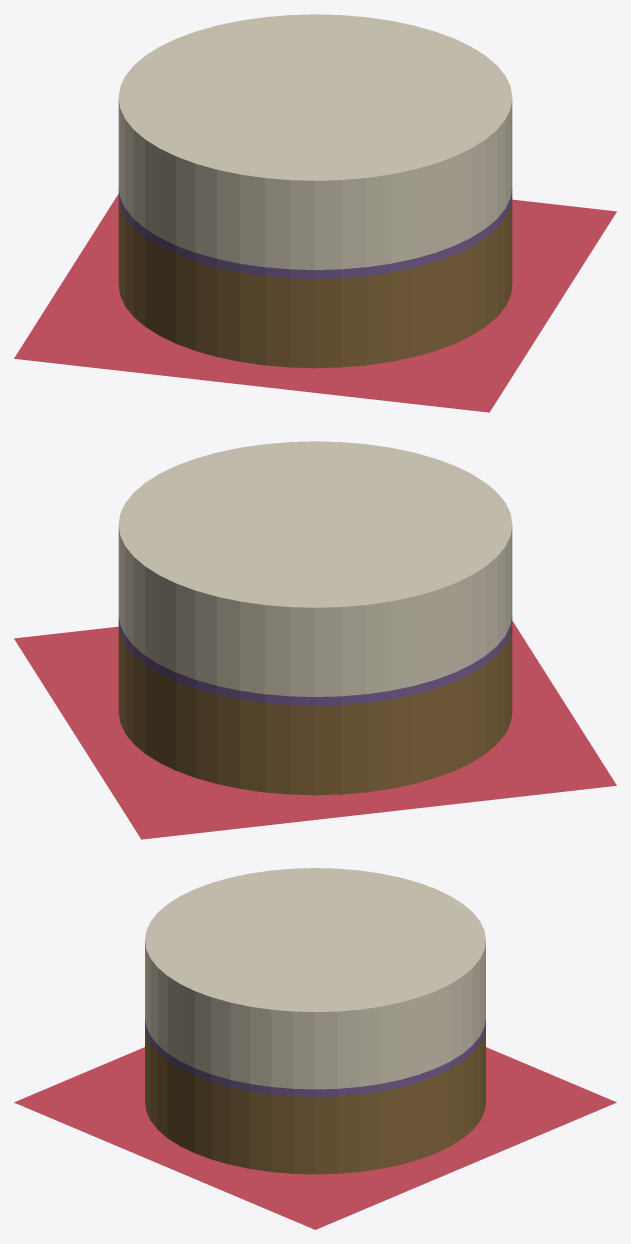
The model's file is CUV.glb.
3 views of the same model, one above another, from view 1: azimuth 30°, elevation 25°; view 2: azimuth 150°, elevation 25°; view 3: azimuth 270°, elevation 25° (orthographic). The views are drawn at different scales.
Parts seen in each view (by area): view 1: Mesh_Mesh_head_geo.001_lambert2SG.001; view 2: Mesh_Mesh_head_geo.001_lambert2SG.001; view 3: Mesh_Mesh_head_geo.001_lambert2SG.001.
Boxes of the visible parts, x1=… form: Mesh_Mesh_head_geo.001_lambert2SG.001: x1=14, y1=14, x2=616, y2=412; Mesh_Mesh_head_geo.001_lambert2SG.001: x1=14, y1=441, x2=616, y2=839; Mesh_Mesh_head_geo.001_lambert2SG.001: x1=14, y1=868, x2=616, y2=1229.
Bounding box in the file's own units: 0.0354 × 0.0105 × 0.0354.
